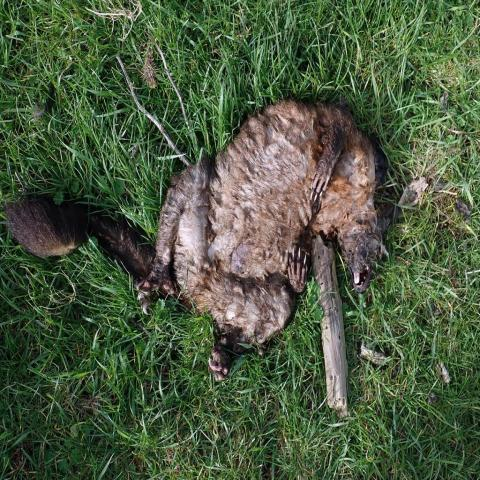small_animal: (4, 96, 393, 385)
